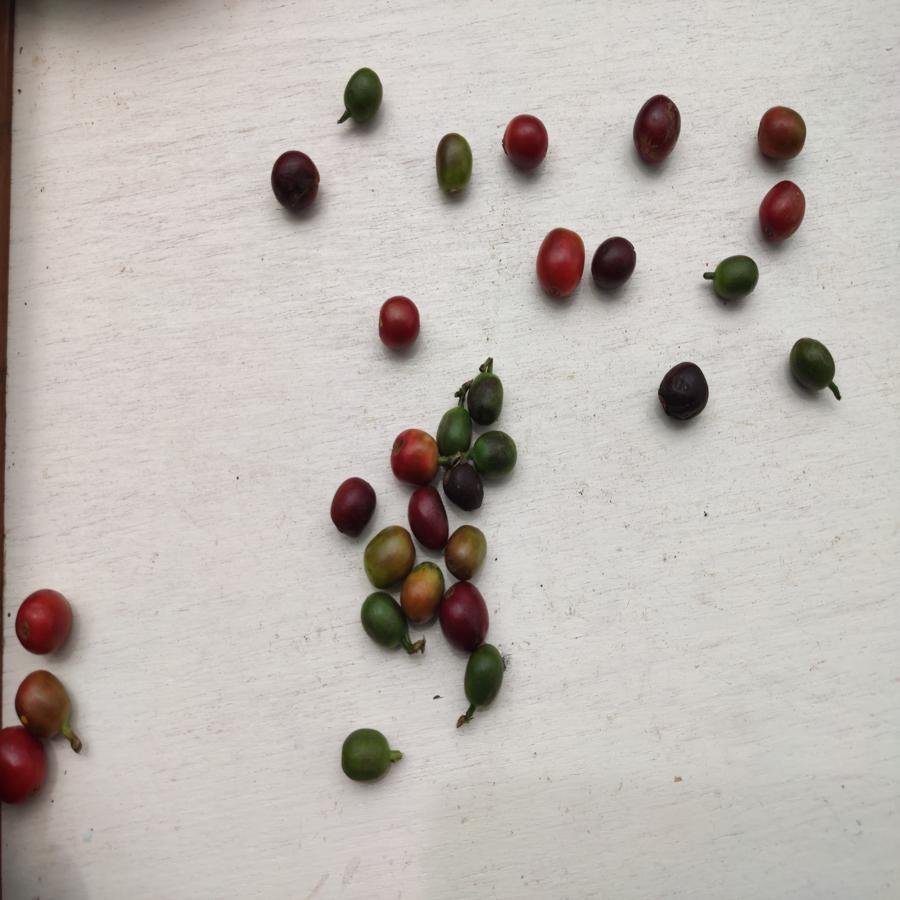Inmaduro: (338, 728, 392, 783), (786, 338, 838, 393), (360, 591, 405, 654), (465, 645, 505, 709), (343, 66, 386, 124), (475, 429, 520, 480), (715, 254, 759, 305), (467, 372, 505, 424), (436, 406, 475, 453)
Maduro: (11, 588, 80, 658), (535, 222, 585, 304), (1, 728, 50, 805), (755, 179, 811, 245), (495, 111, 554, 171), (386, 426, 437, 483), (377, 295, 423, 354)
Pinton: (15, 667, 76, 741), (754, 101, 806, 163), (432, 129, 477, 196), (366, 529, 414, 587), (402, 562, 443, 627), (447, 524, 489, 581)
Sobremaduro: (629, 93, 682, 161), (656, 358, 710, 423), (271, 149, 324, 213), (441, 583, 490, 649), (328, 476, 375, 537), (590, 233, 636, 294), (407, 484, 449, 548), (442, 463, 484, 510)
